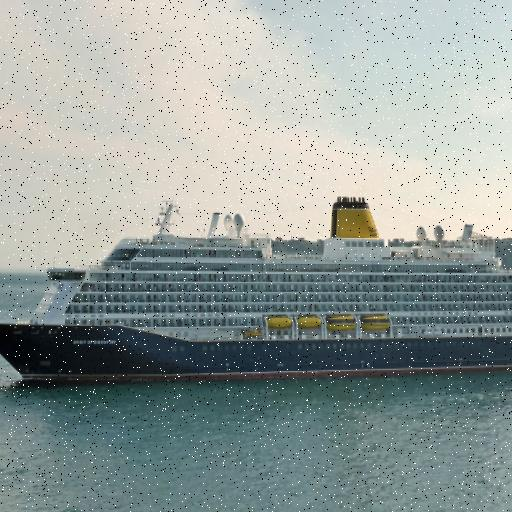cruises: (1, 185, 512, 384)
